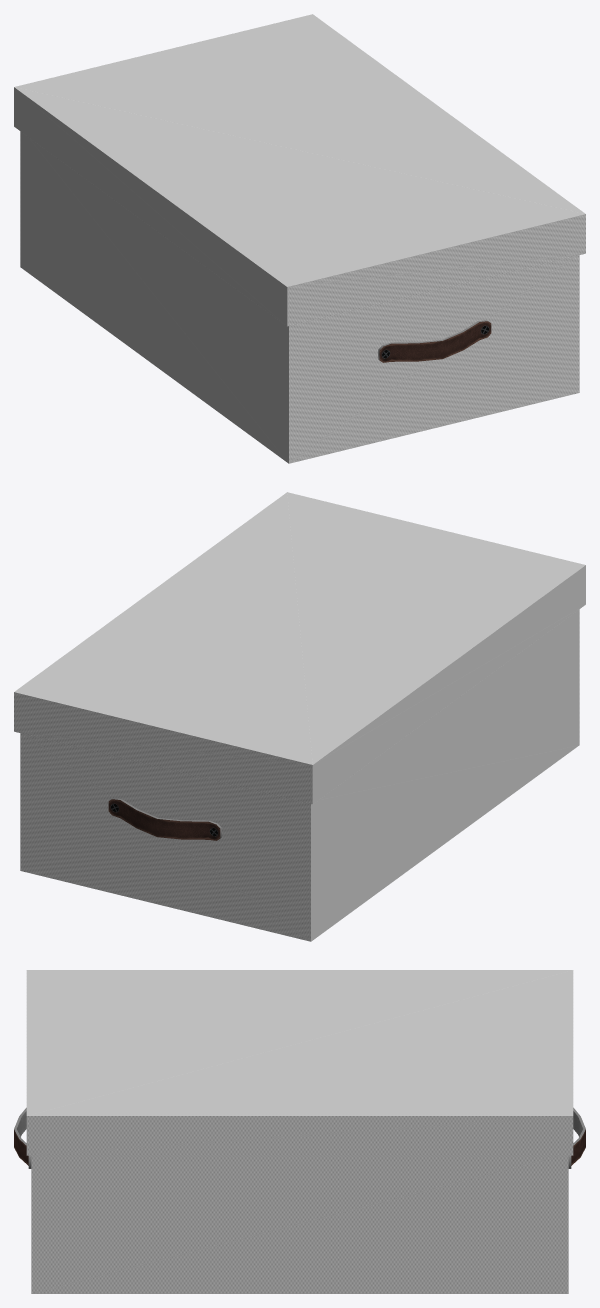
The model's file is BoxBig.FBX.
3 views of the same model, one above another, from view 1: azimuth 30°, elevation 25°; view 2: azimuth 150°, elevation 25°; view 3: azimuth 270°, elevation 25° (orthographic).
Parts seen in each view (by area): view 1: BoxBig; view 2: BoxBig; view 3: BoxBig.
Boxes of the visible parts, x1=… form: BoxBig: x1=14, y1=14, x2=585, y2=463; BoxBig: x1=14, y1=492, x2=585, y2=941; BoxBig: x1=14, y1=970, x2=585, y2=1293.
Bounding box in the file's own units: 25.71 × 14.76 × 42.57.
